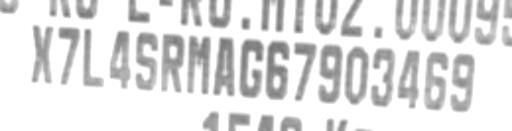letter: (368, 46, 398, 109), (184, 33, 212, 96), (238, 36, 266, 99), (316, 42, 344, 105), (342, 44, 370, 107), (448, 51, 476, 114), (422, 50, 450, 111), (56, 24, 82, 89), (264, 37, 290, 102), (108, 28, 134, 91), (132, 30, 158, 93), (212, 34, 238, 97), (396, 47, 422, 110), (80, 27, 106, 88), (292, 40, 318, 101), (30, 22, 54, 85), (160, 33, 184, 96)
